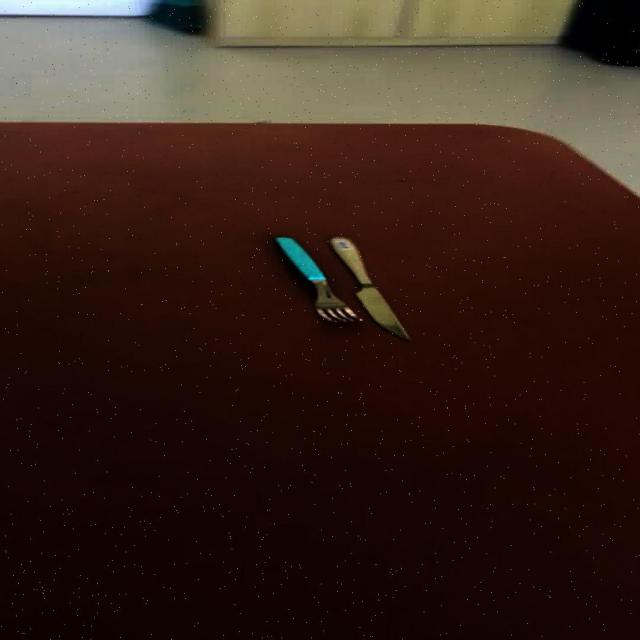Fork: (275, 235, 365, 323)
Knife: (328, 234, 414, 341)
